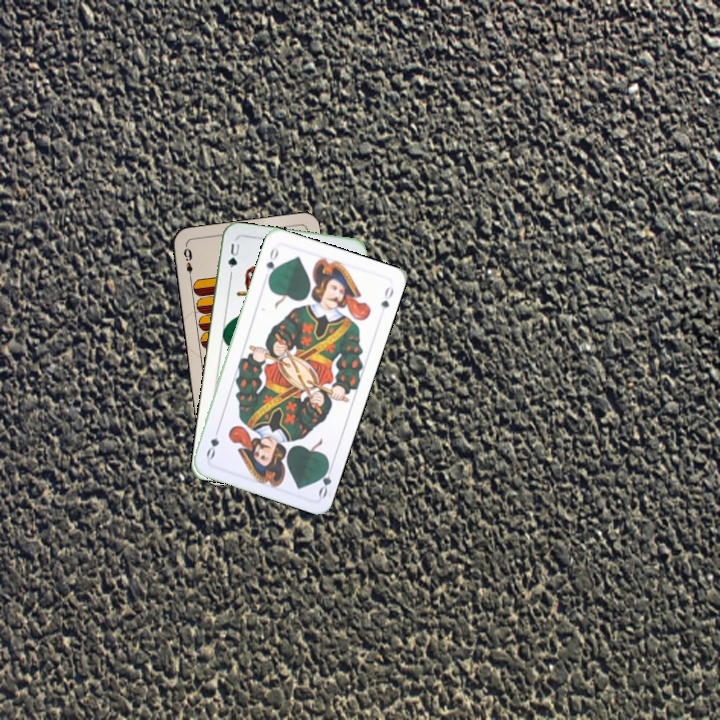E9: (180, 244, 195, 283)
GO: (314, 459, 336, 500), (262, 244, 281, 283)
GU: (224, 238, 242, 277)
